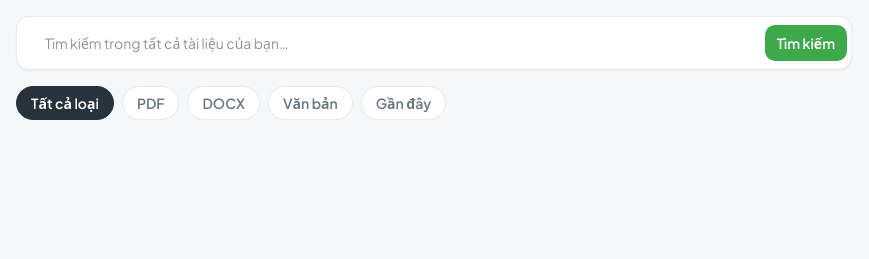
Test case: SearchPage › renders results after submitting a query
In the field named "Tìm kiếm tài liệu của bạn": {"x": 393, "y": 43} [33, 21, 753, 65], type "revenue"
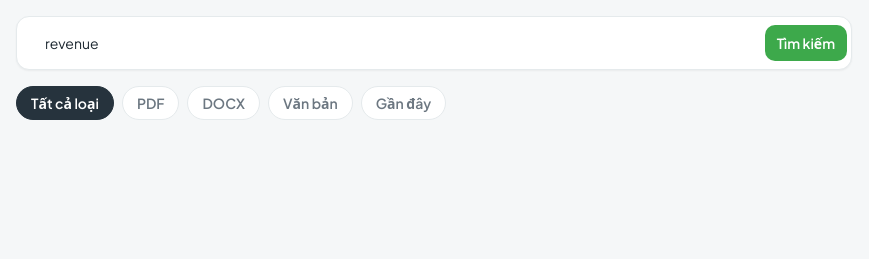
Click the button "Tìm kiếm": {"x": 806, "y": 43} [765, 25, 847, 61]
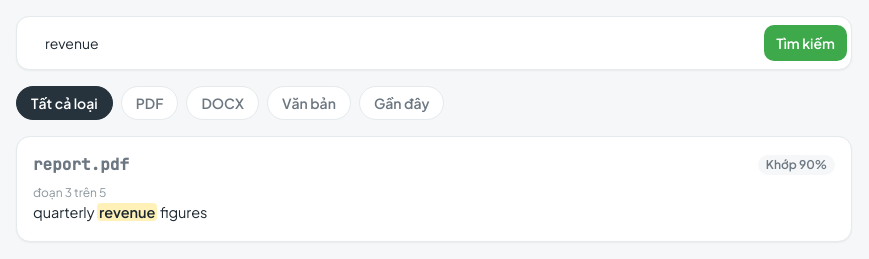
expect the text "report.pdf" is shown: met, box [33, 153, 129, 177]
